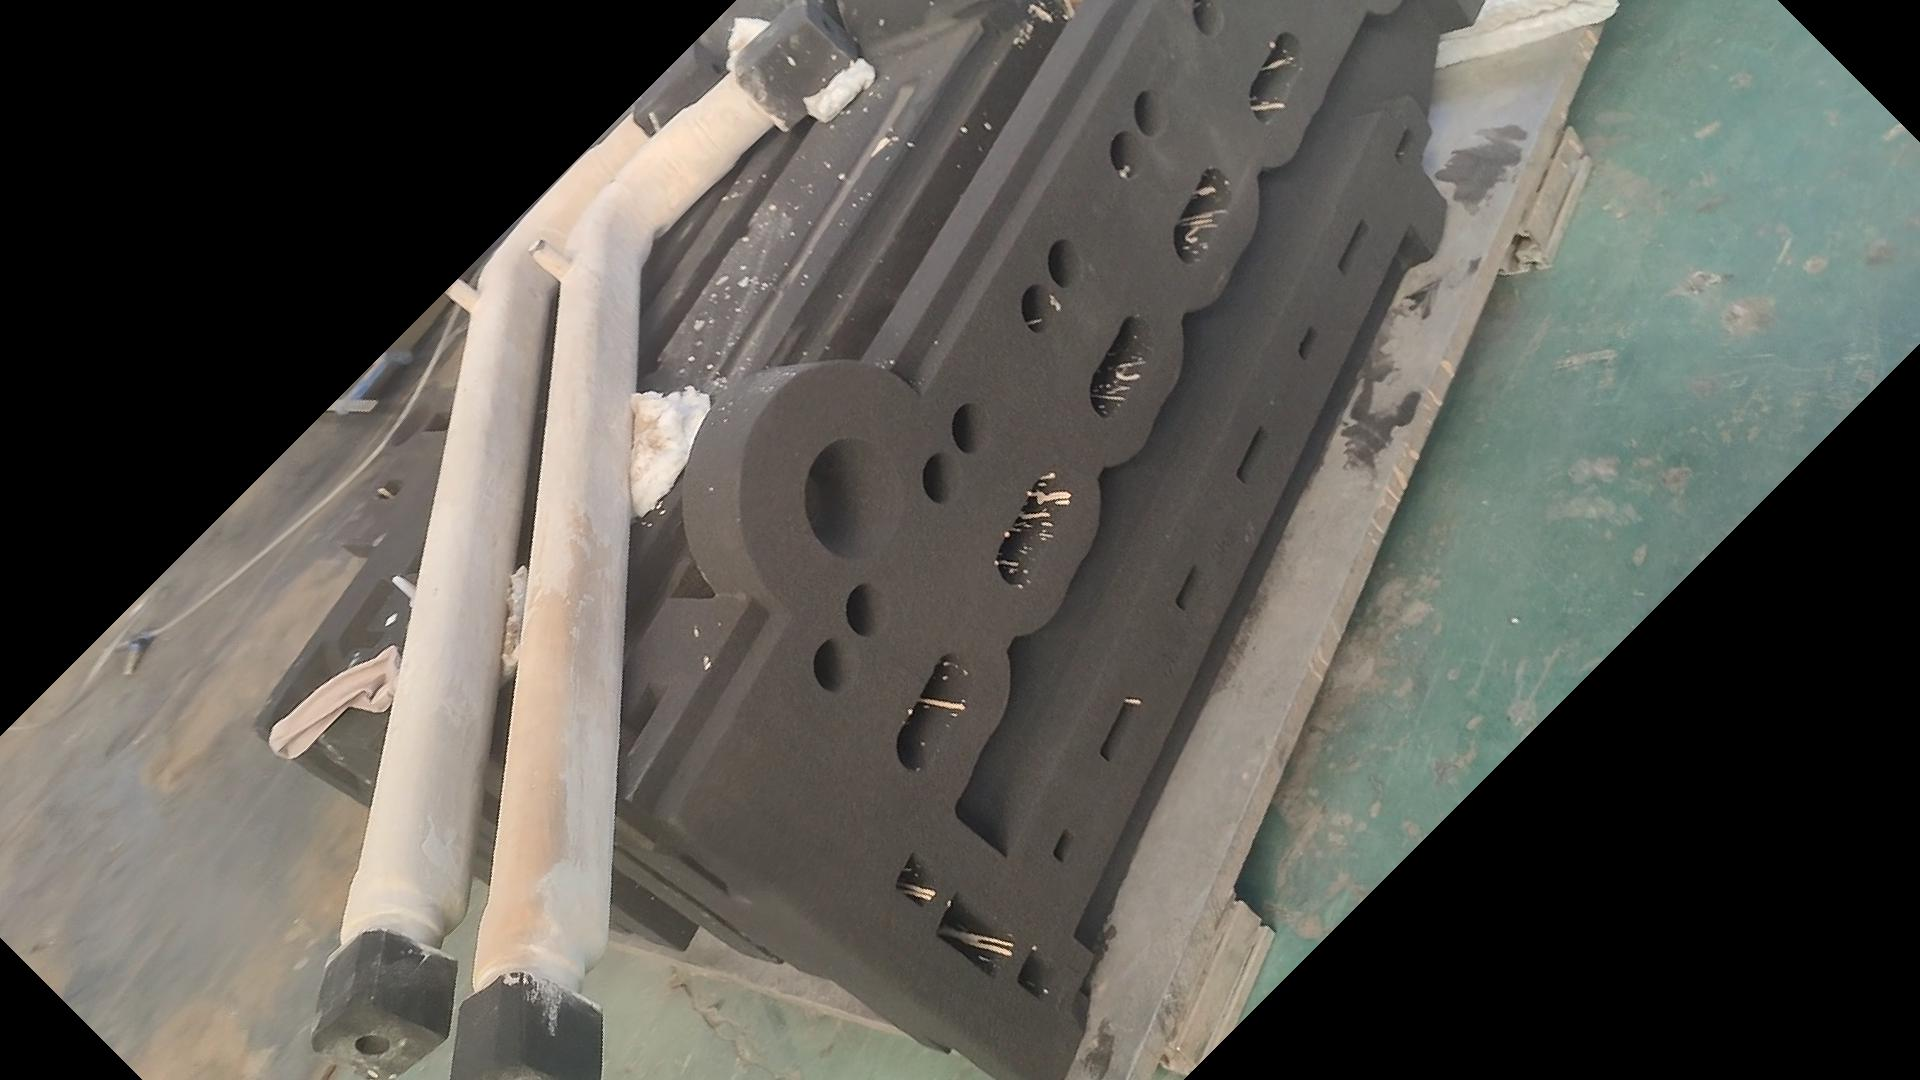pouring hole: (802, 436, 905, 560)
